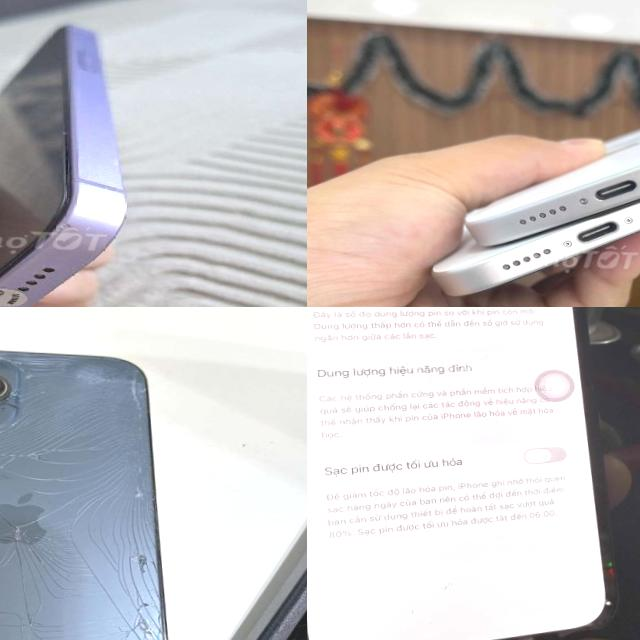gen_12_13: (307, 307, 640, 640), (0, 332, 189, 640), (0, 13, 141, 307)
gen_17: (432, 198, 640, 296)
physical_damage: (0, 442, 149, 500), (0, 494, 87, 581), (108, 532, 170, 640), (38, 397, 146, 441), (44, 347, 148, 391), (0, 586, 68, 640), (0, 348, 40, 369)
